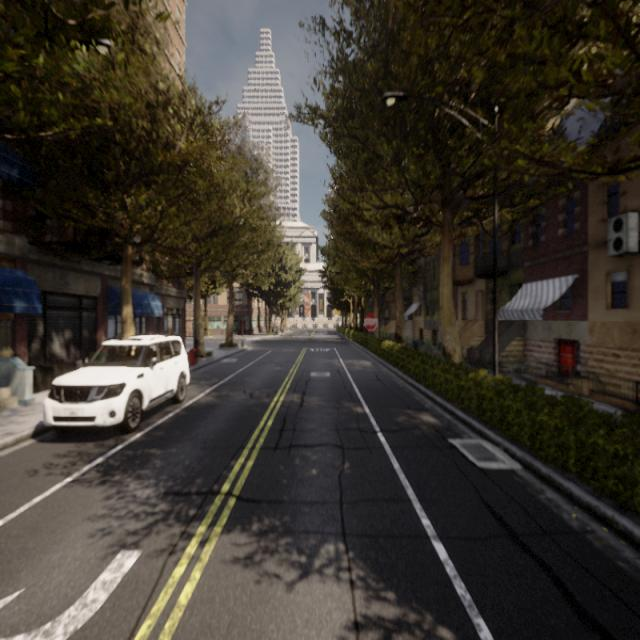stop sign: (361, 309, 379, 334)
